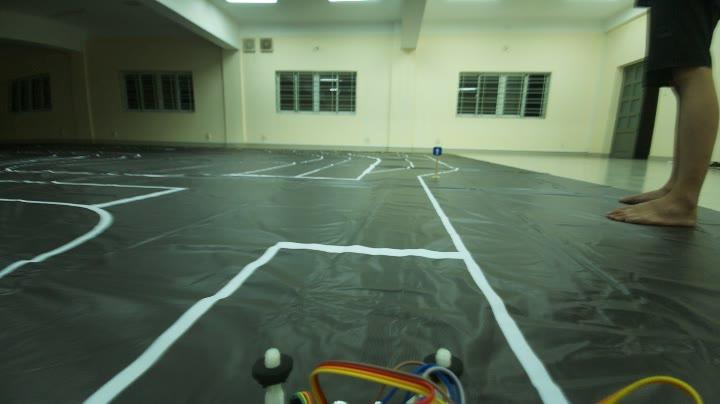onewayroad: (431, 142, 445, 160)
